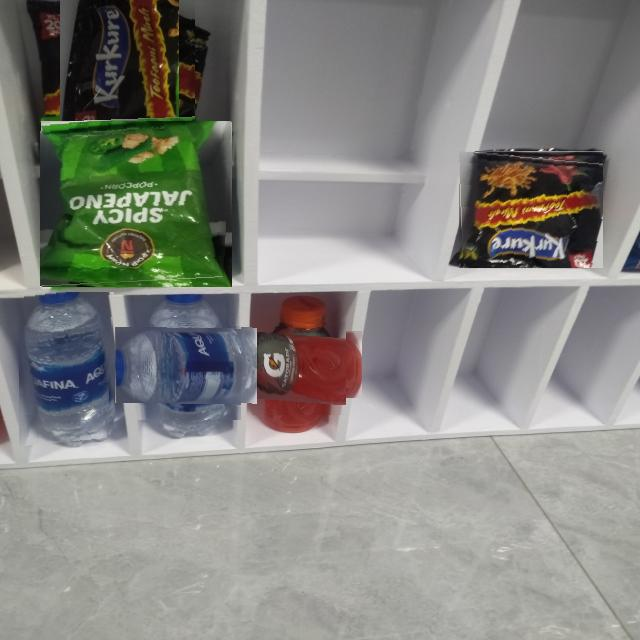Plastic: (40, 121, 232, 288), (43, 0, 195, 134), (458, 150, 603, 268), (19, 292, 114, 447), (132, 310, 241, 420), (245, 314, 346, 415)
